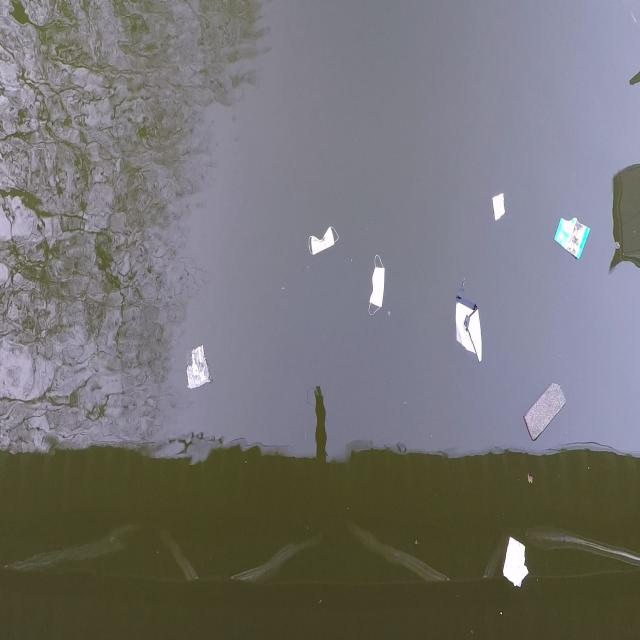Autre plastique: (552, 208, 594, 265)
Non plastique: (365, 252, 391, 321), (306, 223, 340, 257)
Sac plastique: (183, 341, 216, 393)
